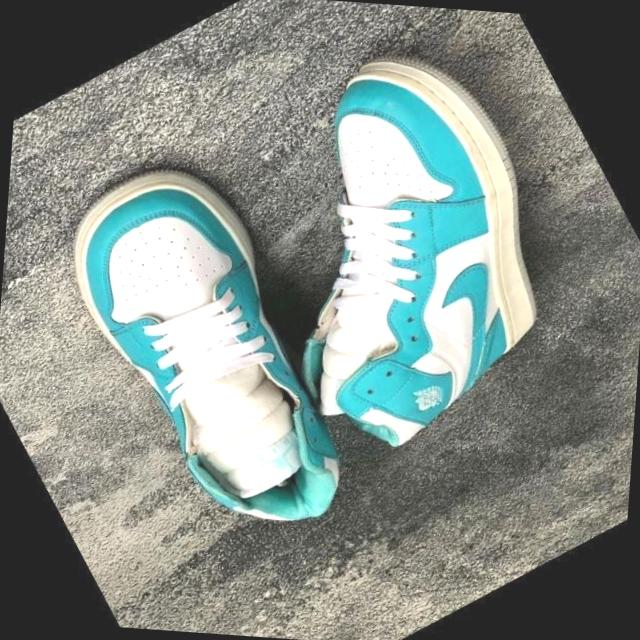nike_fake_jordan: (164, 1, 632, 487), (15, 130, 402, 580)
